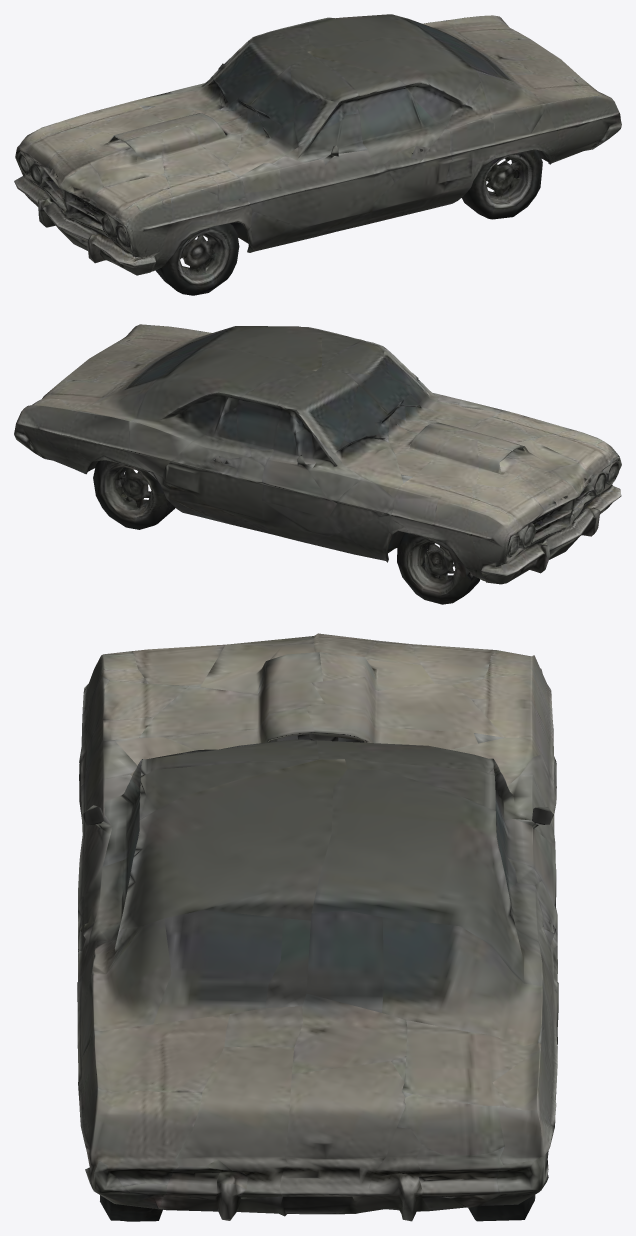
Rendered from car_muscle_light_q3.glb.
3 renders of one model, top to bottom at view 1: azimuth 30°, elevation 25°; view 2: azimuth 150°, elevation 25°; view 3: azimuth 270°, elevation 25°, orthographic. The views are drawn at different scales.
Size of the model in its own units: 4.55 by 1.34 by 1.83.
Materials: 1 (1 with a texture image).
